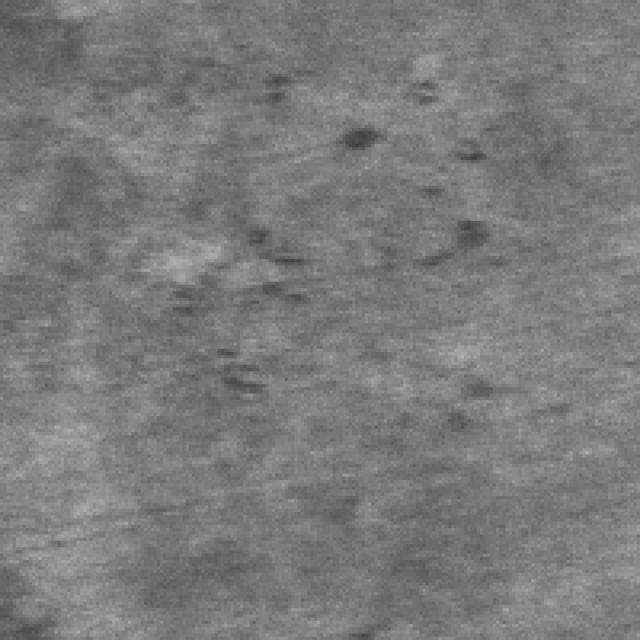rolled-in_scale: (141, 202, 336, 406), (330, 64, 508, 272)
